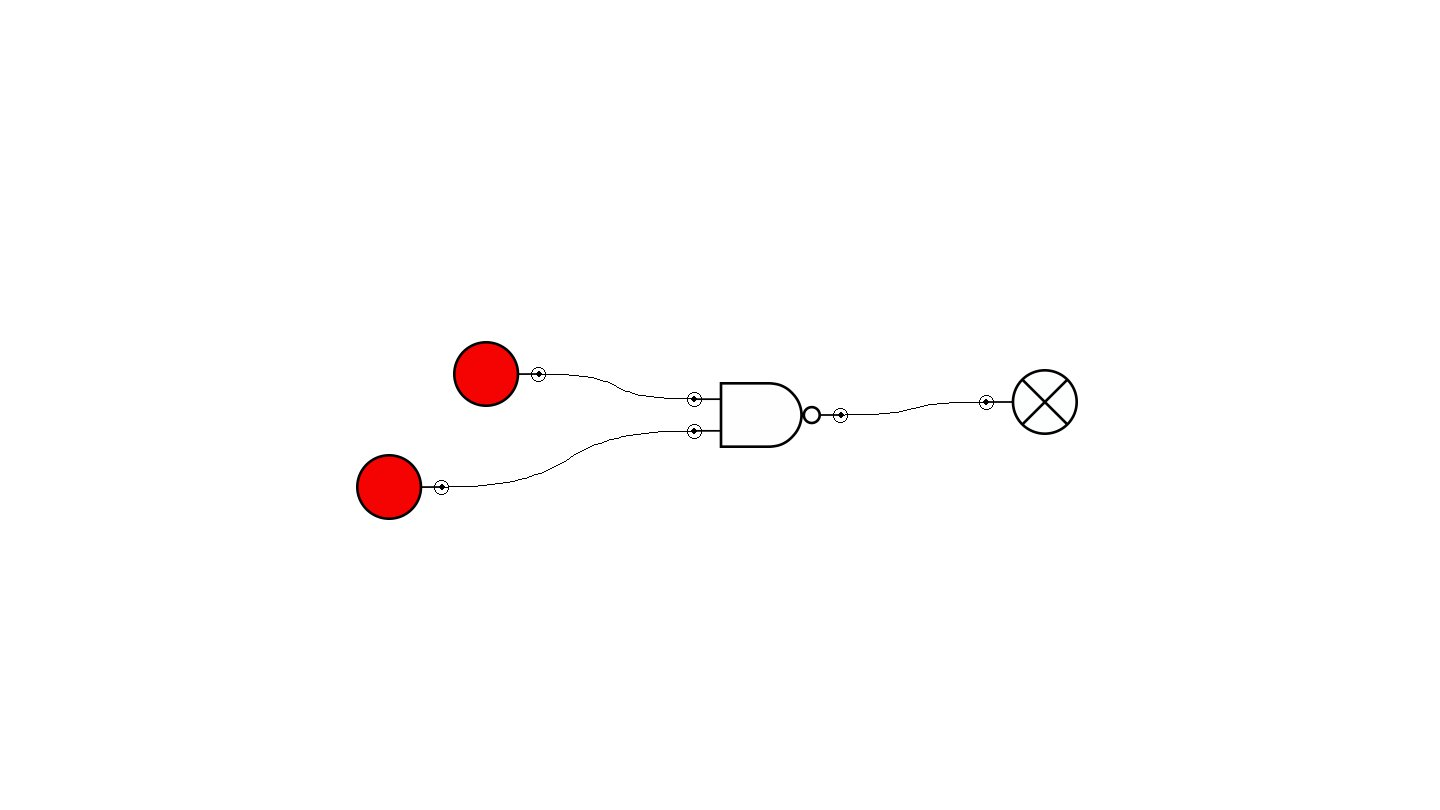bulb: (979, 369, 1078, 435)
nand: (687, 382, 848, 448)
switch_False: (453, 341, 546, 407), (356, 454, 449, 520)
